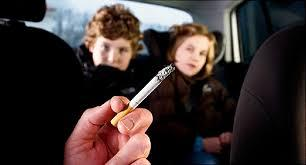smoke: (110, 64, 175, 128)
